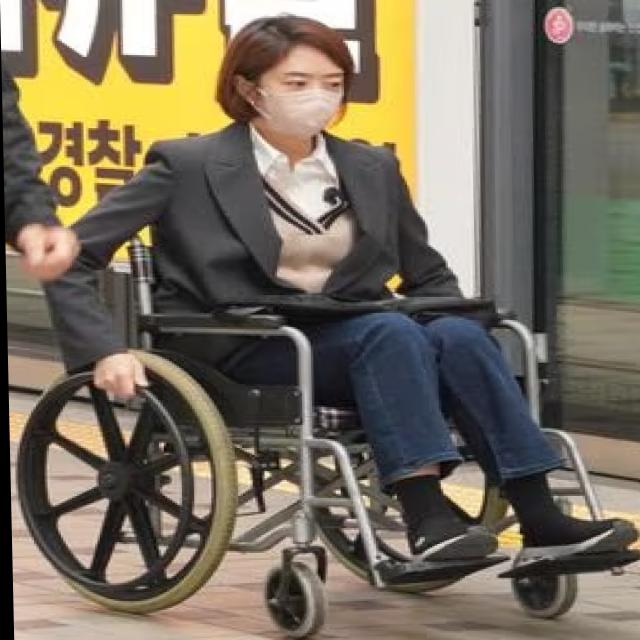wheelchair: (12, 14, 640, 636)
